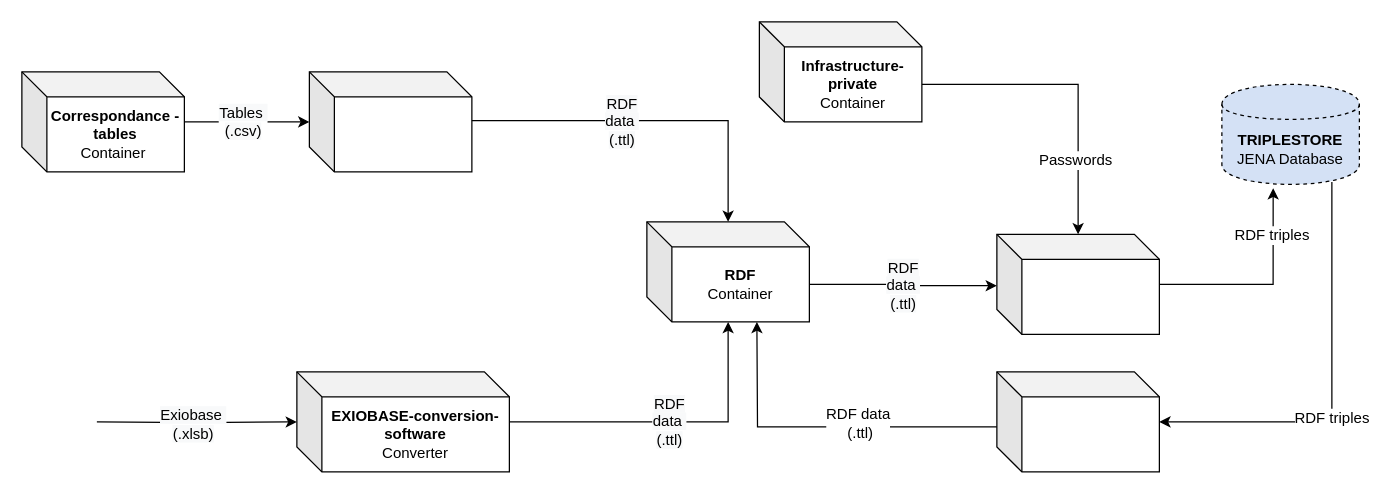
Some shapes in this 1390 by 494 pixel diagram are drawn without their labels. The centre of each missing label's shape, as x and y in pixels:
Arborist Converter: pixel 390 121
Importer Uploads to Triplestore: pixel 1077 283
mojo Creates a system model: pixel 1077 421
